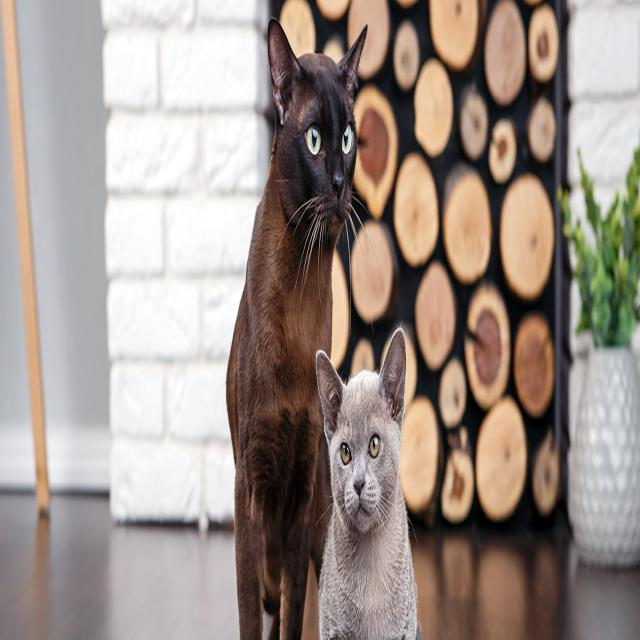cat: (209, 5, 377, 630), (308, 274, 429, 640)
